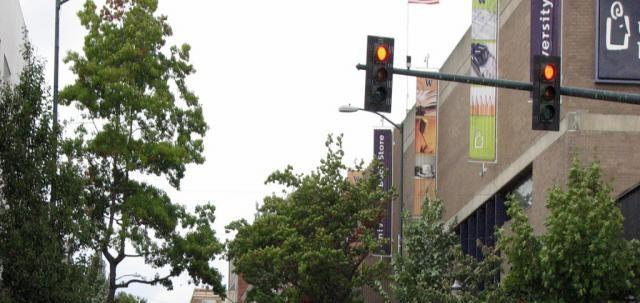red_light: (365, 35, 395, 113), (531, 55, 561, 131)
